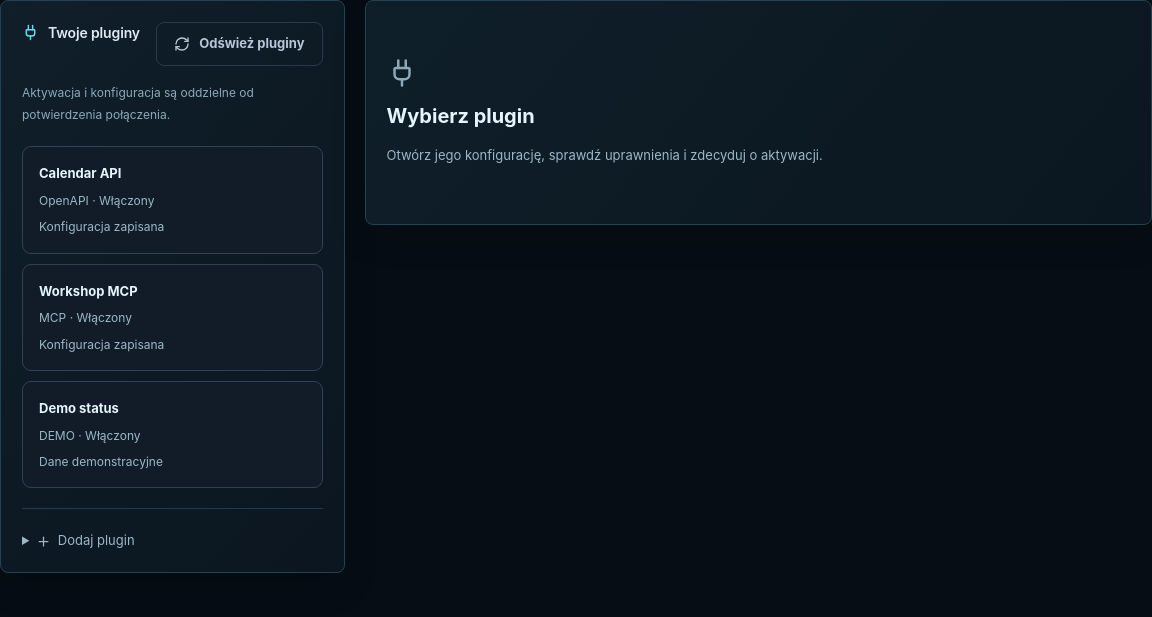
Owner Plugin Manager › loads only local metadata on entry and reads configuration without discovery or invocation
The width and height of the screenshot is (1152, 617).
Step 1. Click the button "Calendar API" → coordinates (80, 173), box [22, 146, 322, 254]
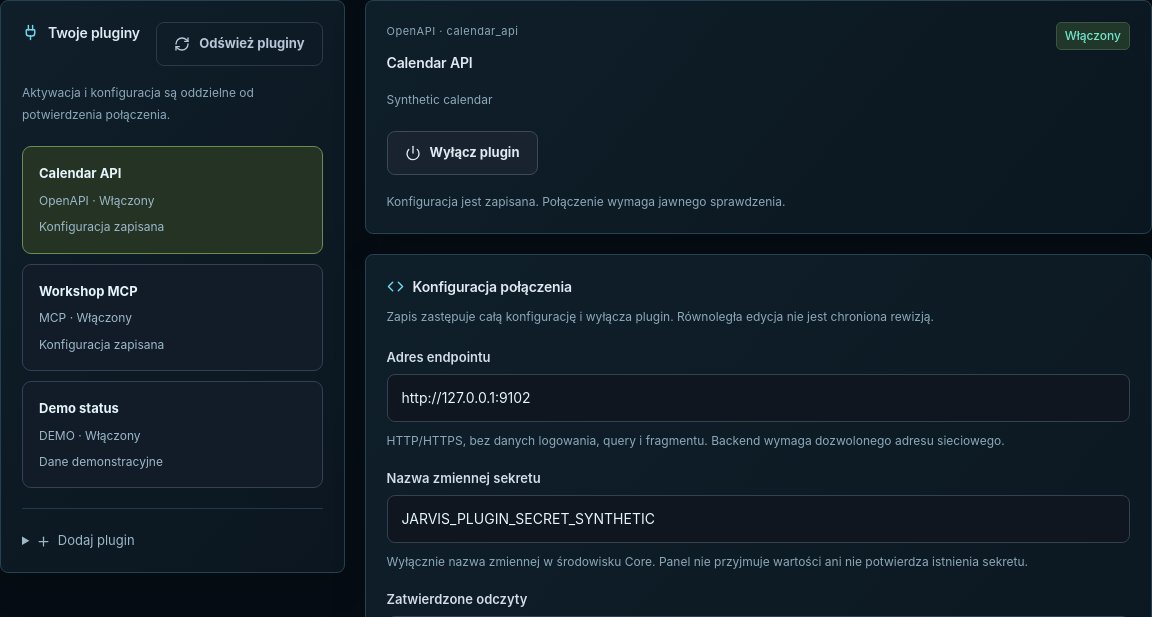
Result: the field labelled "Adres endpointu" holds "http://127.0.0.1:9102" at [386, 374, 1130, 422]
